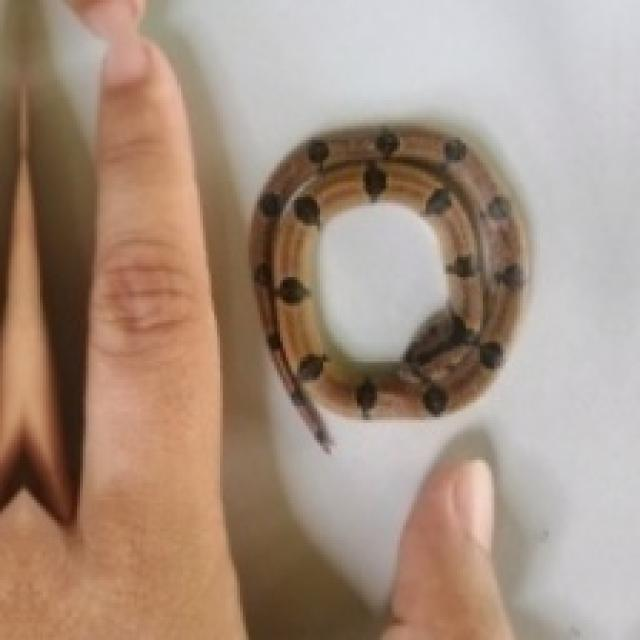northern short-headed snake: (249, 126, 526, 446)
